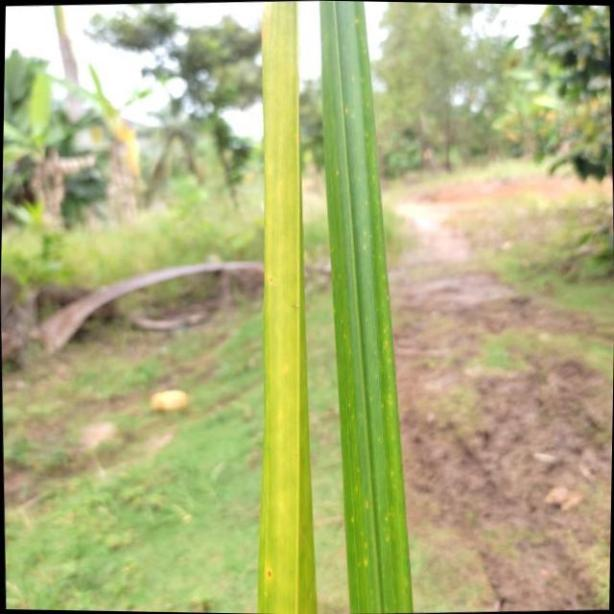nitrogen: (318, 0, 413, 614), (255, 0, 316, 614)
